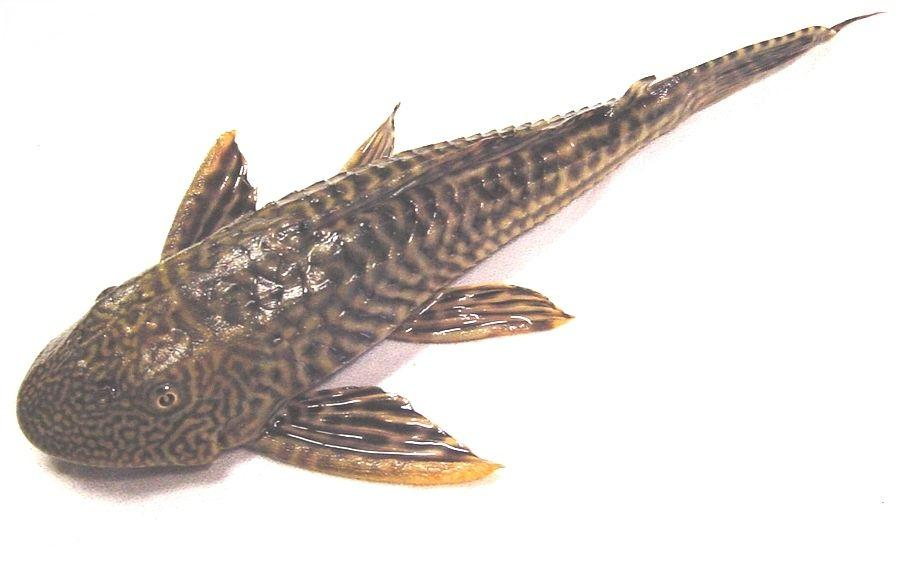Janitor Fish: (19, 7, 889, 496)
